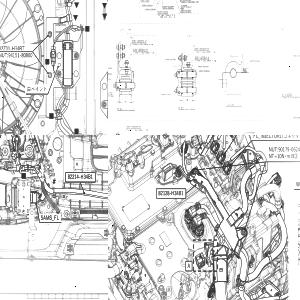PartNumber: (67, 173, 93, 180), (158, 189, 184, 196), (8, 52, 33, 59), (0, 45, 25, 51), (278, 145, 300, 151), (145, 8, 154, 11), (162, 6, 172, 8), (180, 11, 190, 13), (180, 9, 190, 11), (180, 6, 190, 8), (194, 47, 204, 49), (160, 94, 170, 96), (126, 126, 136, 128), (140, 0, 149, 2), (158, 10, 167, 12), (282, 93, 291, 95), (194, 49, 203, 51), (195, 56, 204, 58), (198, 65, 207, 67), (199, 70, 208, 72), (165, 58, 174, 60), (133, 50, 142, 52), (133, 48, 142, 50), (126, 127, 135, 129), (142, 4, 150, 6), (158, 12, 166, 14), (282, 95, 290, 97), (292, 116, 300, 118), (132, 42, 140, 44), (293, 54, 300, 56), (162, 8, 172, 9), (194, 58, 204, 59), (180, 0, 189, 1), (250, 60, 258, 61), (132, 40, 140, 41), (108, 66, 110, 69), (108, 93, 111, 95), (108, 92, 111, 94), (108, 72, 110, 74), (108, 78, 110, 80)
